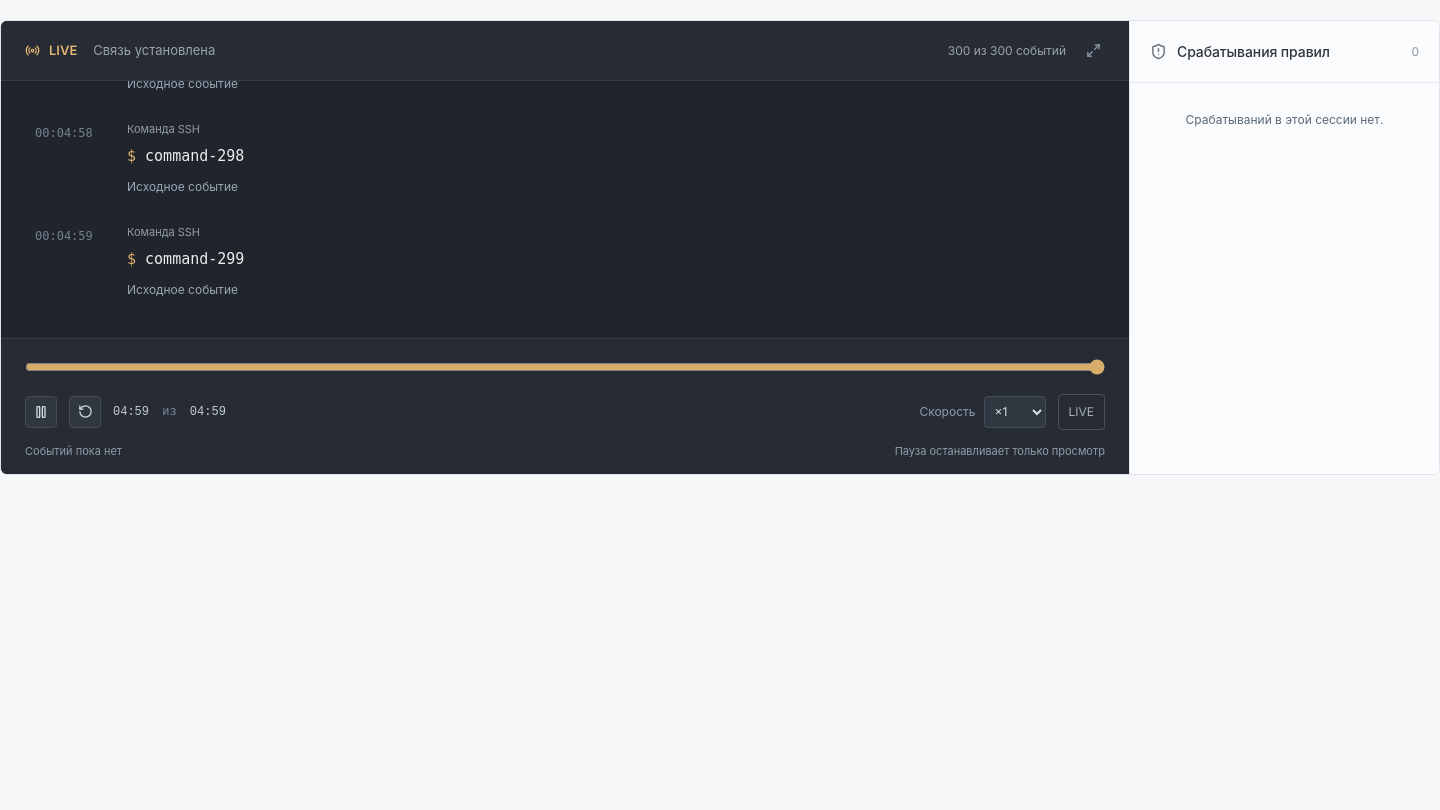
session player interactions › bounds rendered rows but retains history for seeking and exits expanded mode with Escape
(page scrolled)
Expected: the text "command-0" is not shown
Set the slider named "Позиция воспроизведения" to "0" at (33, 366), box x1=25 y1=356 x2=1105 y2=376
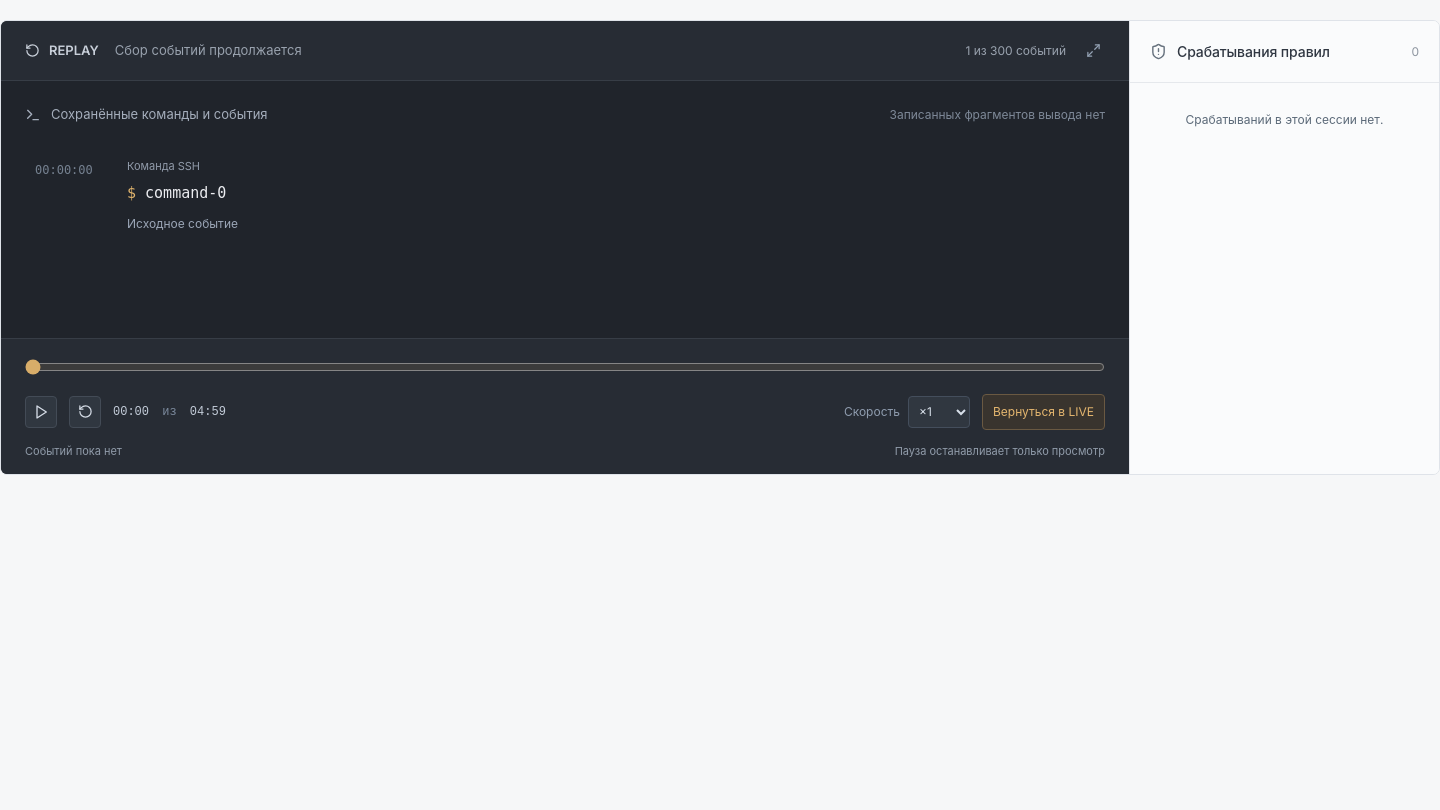
Expected: the text "command-0" is shown, x1=145 y1=184 x2=226 y2=202
Click the button named "Развернуть плеер" at (1094, 50), box x1=1082 y1=39 x2=1105 y2=62
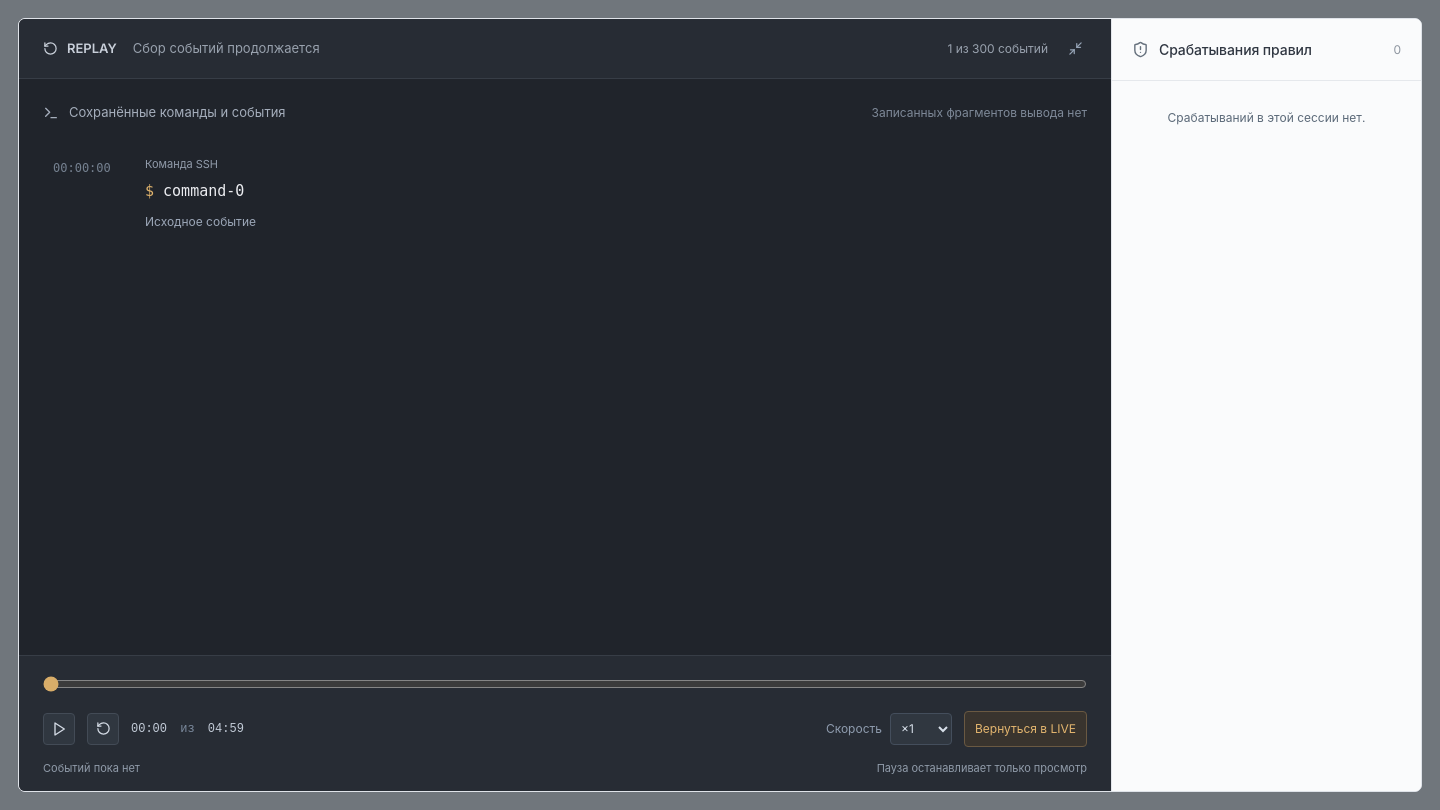
Expected: the button named "Свернуть плеер" is shown, x1=1064 y1=37 x2=1087 y2=60
Press Escape
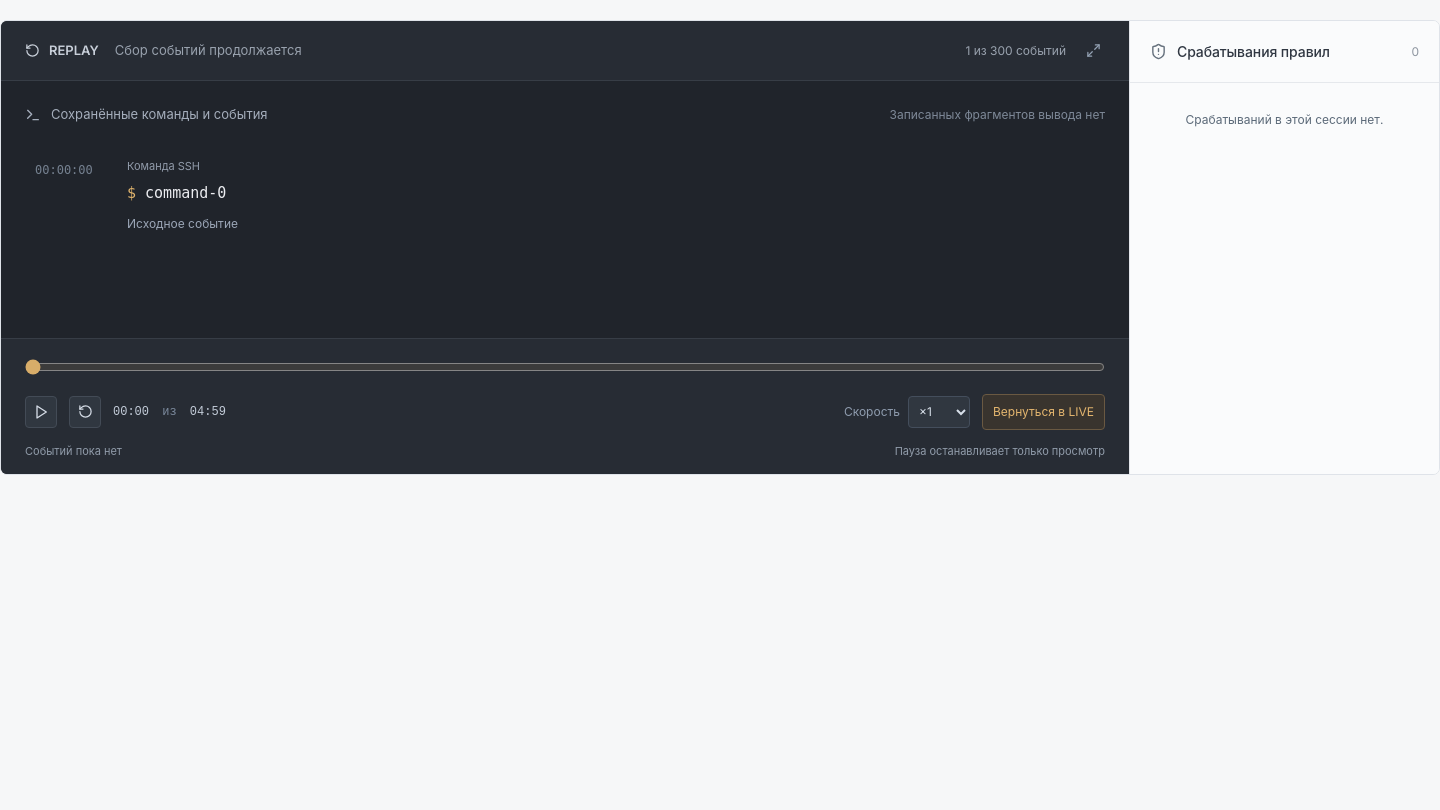
Expected: the button named "Развернуть плеер" is shown, x1=1082 y1=39 x2=1105 y2=62
